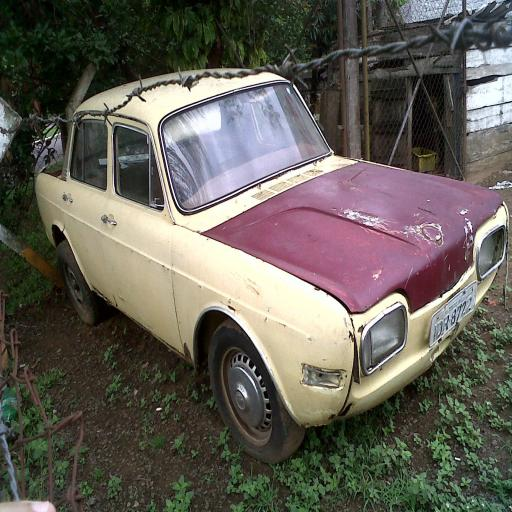pickup: (36, 74, 508, 462)
